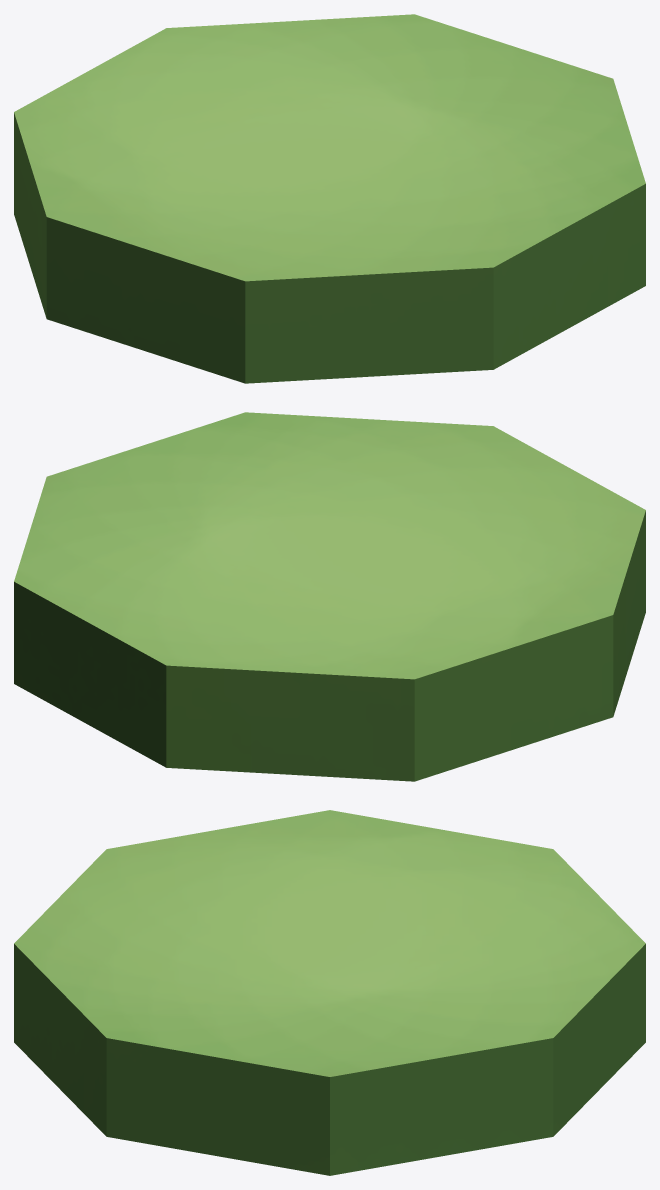
Rendered from food_slice_pickle.FBX.
The picture shows the model from 3 angles, top to bottom: view 1: azimuth 30°, elevation 25°; view 2: azimuth 150°, elevation 25°; view 3: azimuth 270°, elevation 25°; orthographic projection. The views are drawn at different scales.
Parts seen in each view (by area): view 1: food_slice_pickle; view 2: food_slice_pickle; view 3: food_slice_pickle.
Part boxes in pixels (box(x1,y1,x2,y2)): food_slice_pickle: box(14, 14, 645, 383); food_slice_pickle: box(14, 412, 645, 781); food_slice_pickle: box(14, 810, 645, 1175).
Bounding box in the file's own units: 53.61 × 9.25 × 53.61.
